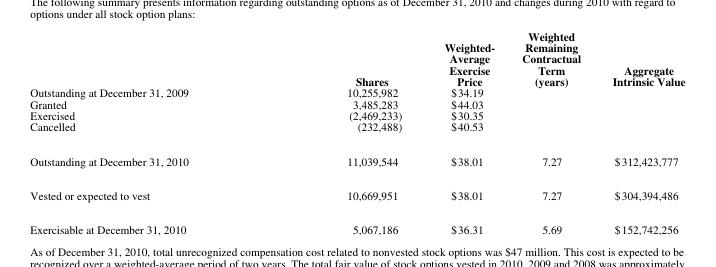table: (29, 28, 684, 235)
table column: (29, 28, 267, 235), (267, 28, 422, 235), (595, 28, 684, 235), (507, 28, 595, 235), (422, 28, 507, 235)
table column header: (29, 28, 684, 87)
table row: (29, 28, 684, 87), (29, 177, 684, 212), (29, 143, 684, 177), (29, 212, 684, 235), (29, 121, 684, 143), (29, 109, 684, 121), (29, 87, 684, 98), (29, 98, 684, 109)
